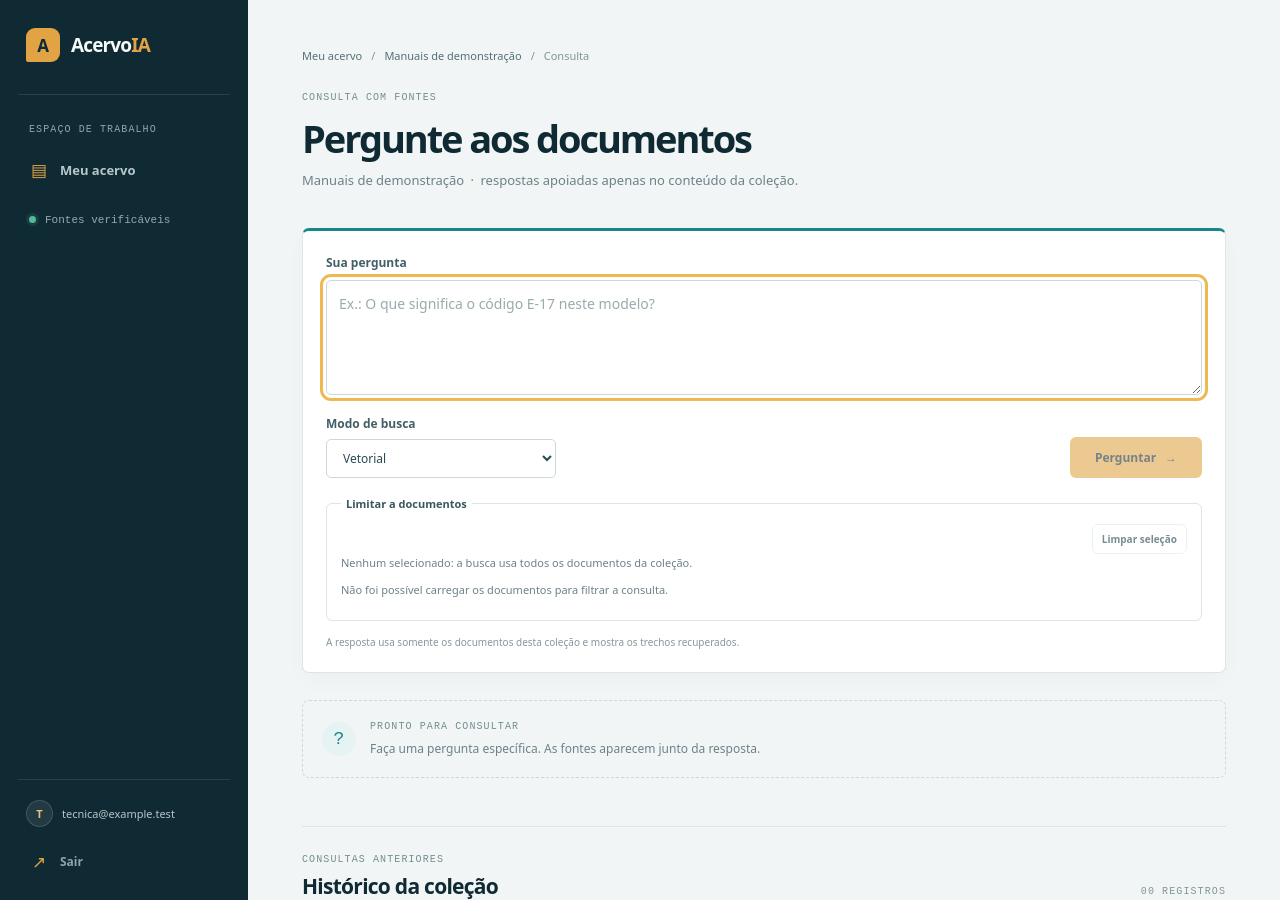
Test: AcervoIA web flows › explains an invalid model response without presenting unverified sources
In the text box labelled "Sua pergunta": (764, 338) [326,280,1202,395], type "Qual alimentação?"
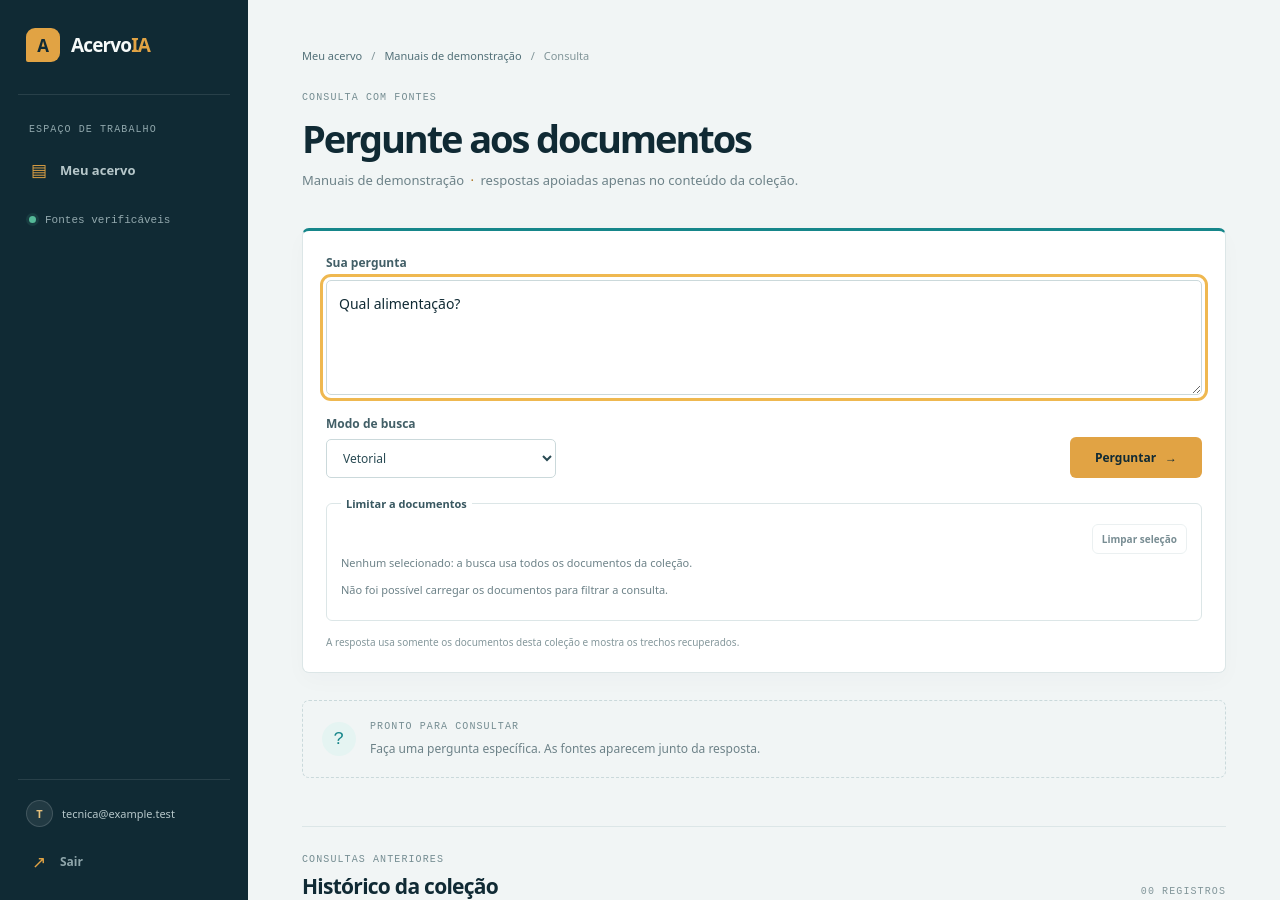
Click the button "Perguntar →": (1136, 458) [1070,437,1202,478]
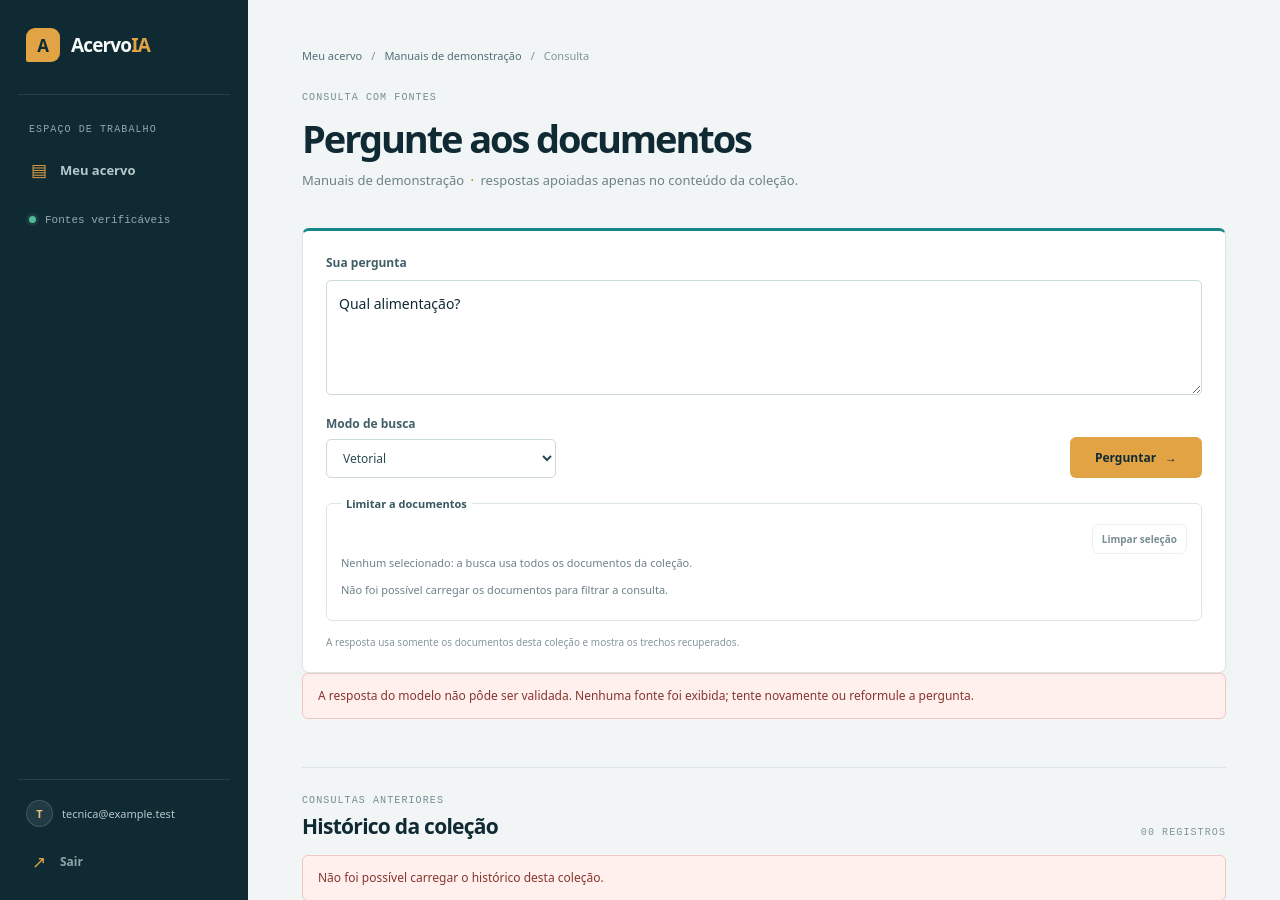
expect the 2nd message shows "não pôde ser validada": met, box [318,687,974,704]
